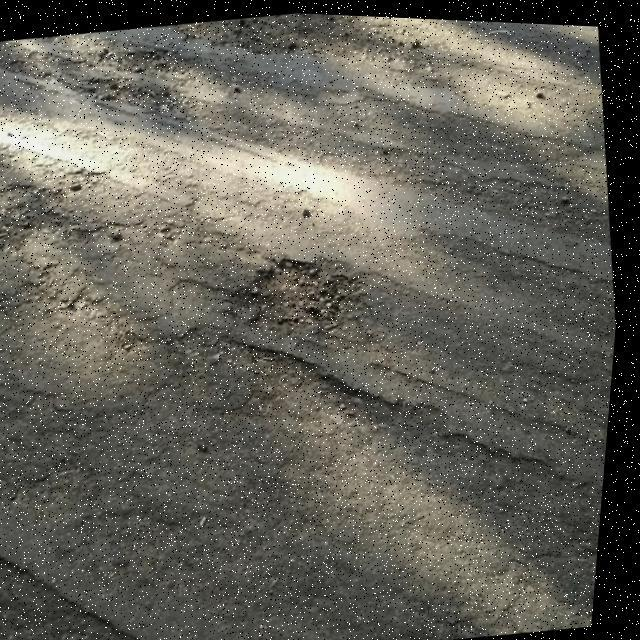pothole: (223, 240, 370, 348)
